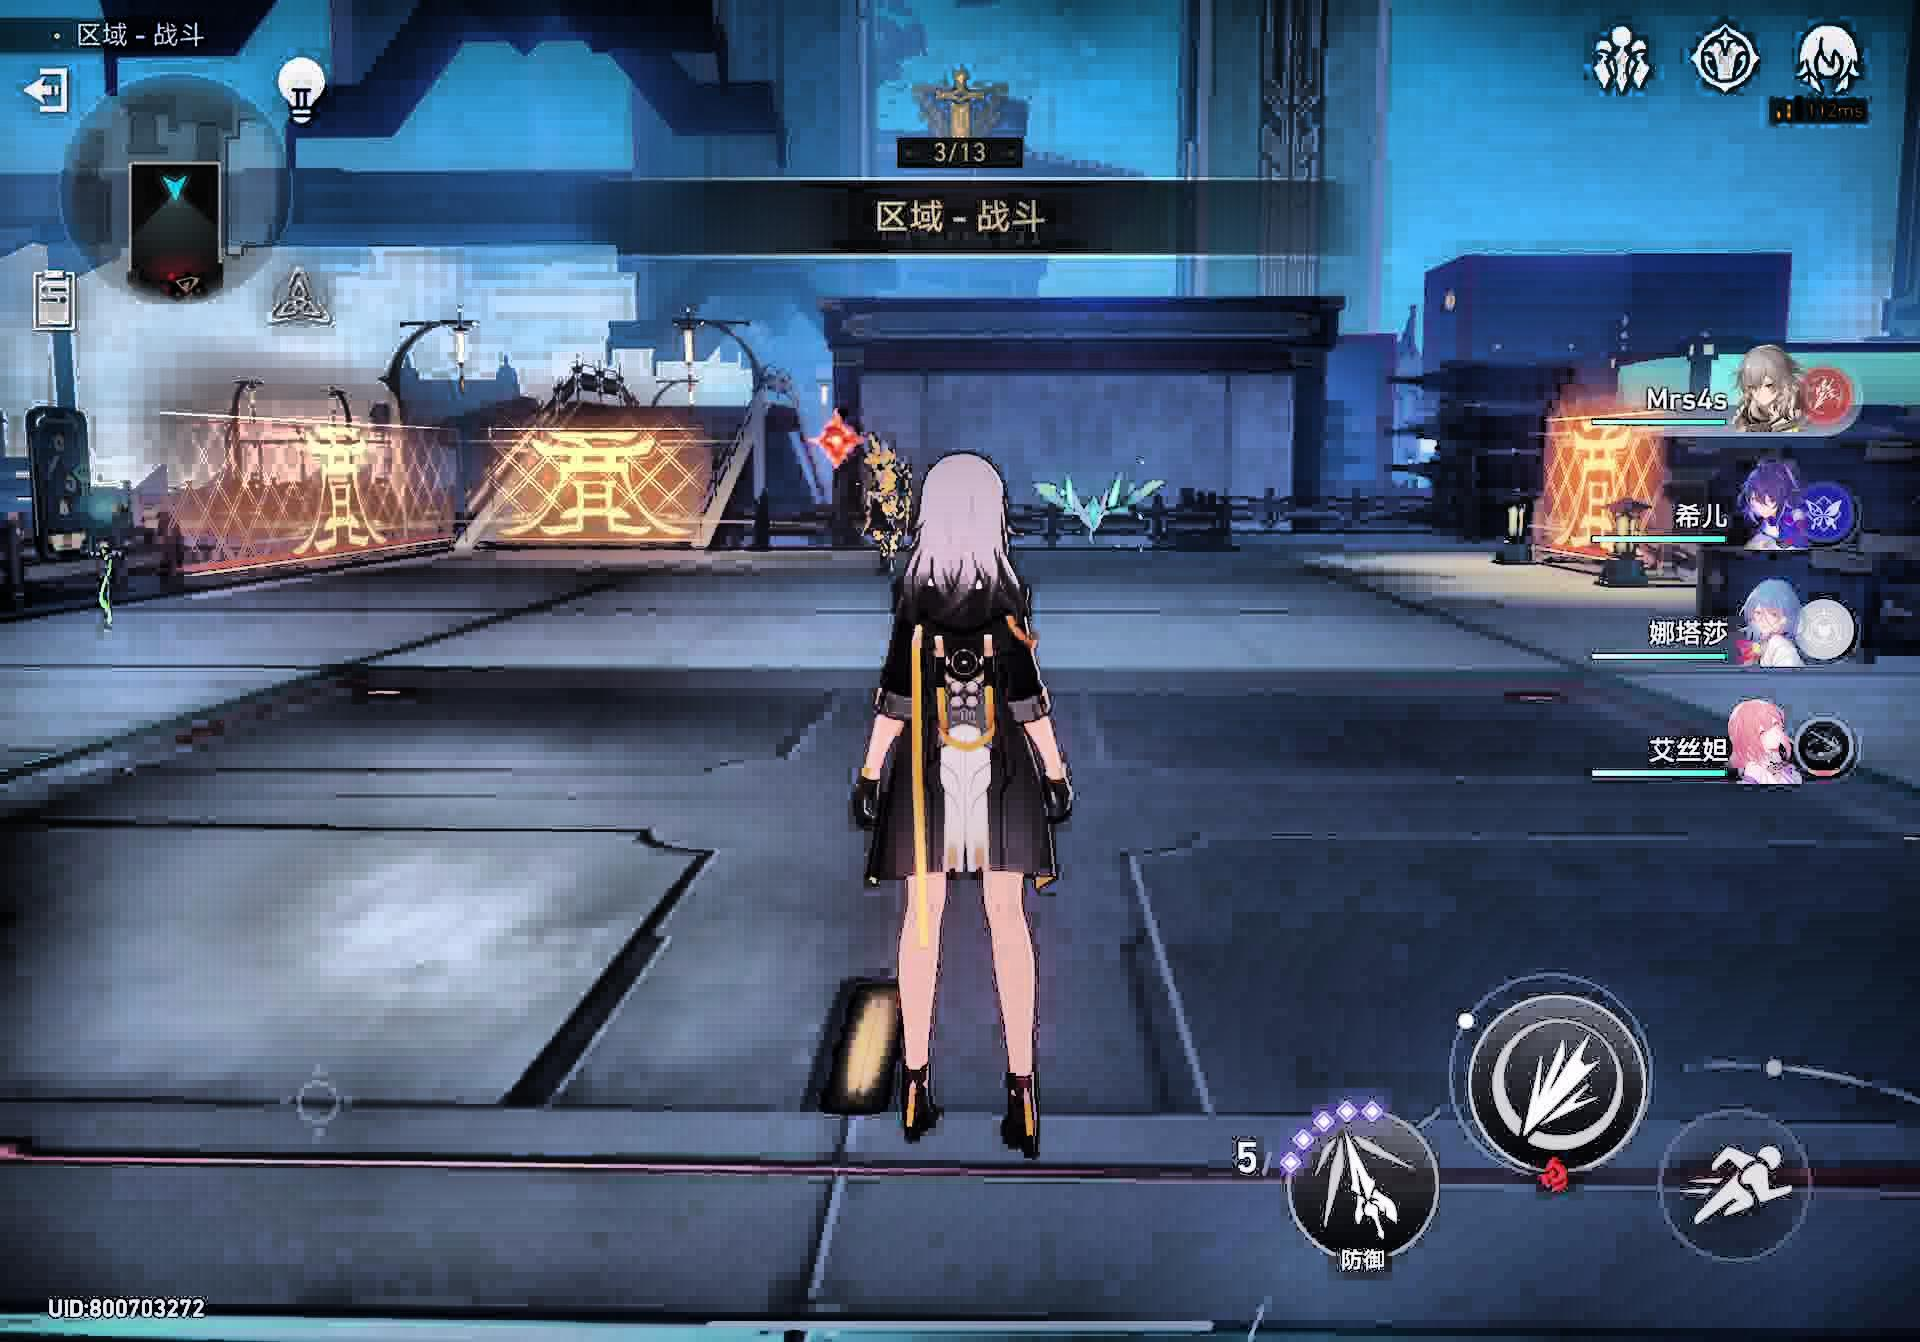BattleDoor: (813, 406, 864, 476)
Enemy: (1018, 462, 1180, 537), (853, 436, 916, 583)
Self: (858, 454, 1078, 1171)
